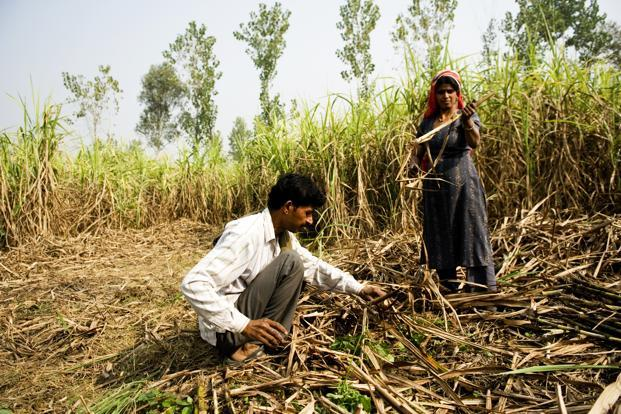NOTSAFE: (209, 176, 321, 301), (414, 69, 479, 186)
